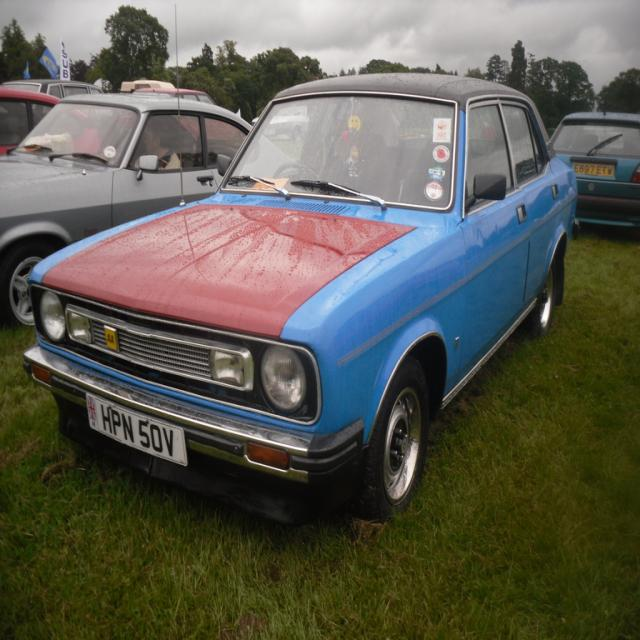car: (20, 64, 584, 516)
